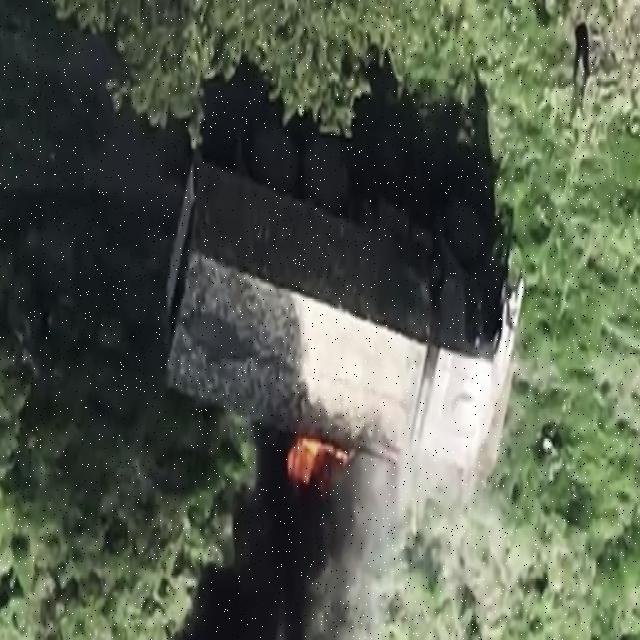TRUCK: (160, 121, 532, 491)
